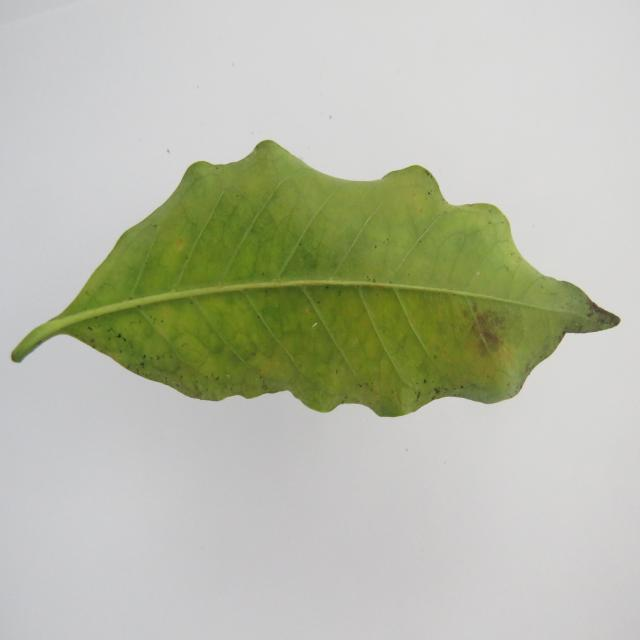DeficienciaNutricional-Calcio: (11, 140, 619, 417)
